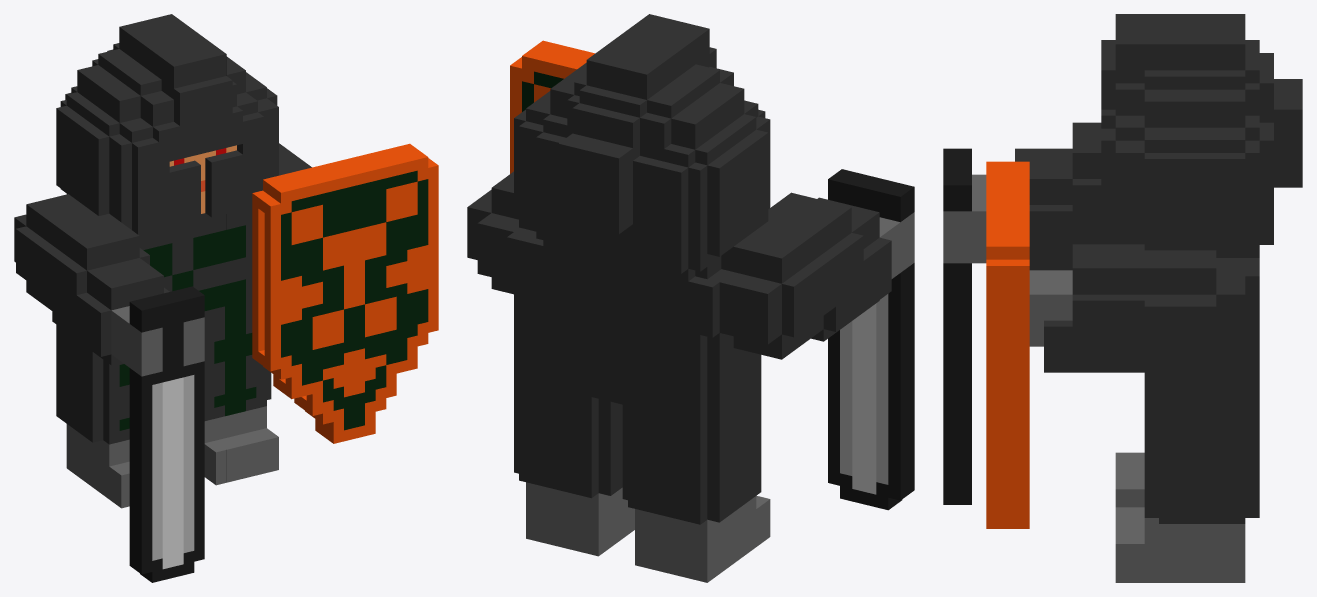
The model's file is Warrior.obj.
3 views of the same model, side by side, from view 1: azimuth 30°, elevation 25°; view 2: azimuth 150°, elevation 25°; view 3: azimuth 270°, elevation 25° (orthographic). The views are drawn at different scales.
Parts seen in each view (by area): view 1: Cube.2395_Cube.2398; view 2: Cube.2395_Cube.2398; view 3: Cube.2395_Cube.2398.
Part boxes in pixels (x1,y1,x2,y2): Cube.2395_Cube.2398: [14, 14, 438, 582]; Cube.2395_Cube.2398: [467, 14, 914, 582]; Cube.2395_Cube.2398: [943, 14, 1302, 582].
Bounding box in the file's own units: 31 × 40 × 25.
